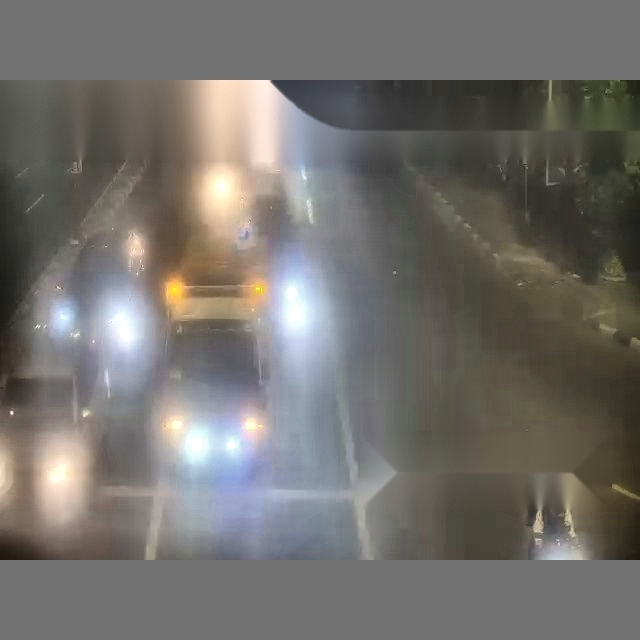Motor: (126, 228, 146, 277)
